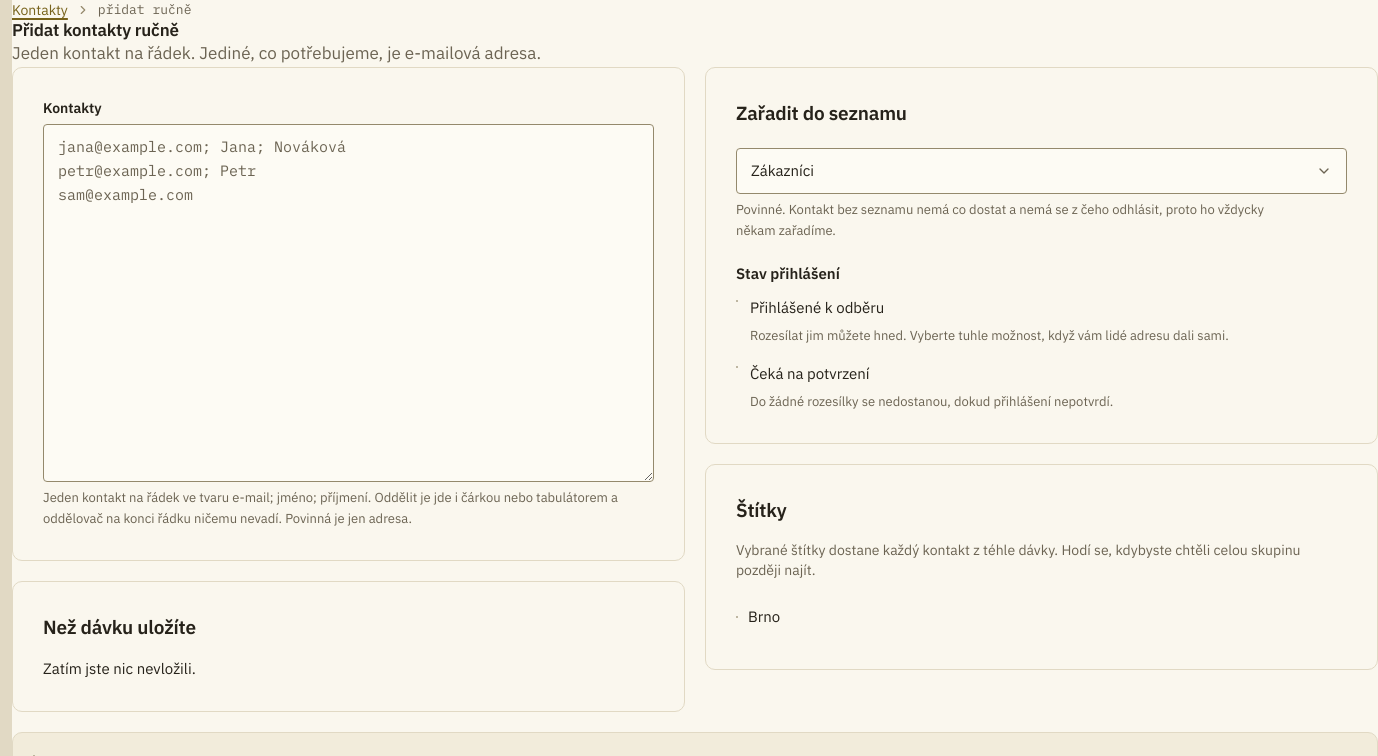
Test: obrazovka vložení kontaktů textem › řekne, co se s kontakty stane podle zvoleného stavu přihlášení
Click the 2nd radio button named "čeká na potvrzení". click: (737, 367)
box: [736,366,738,368]
(page scrolled)
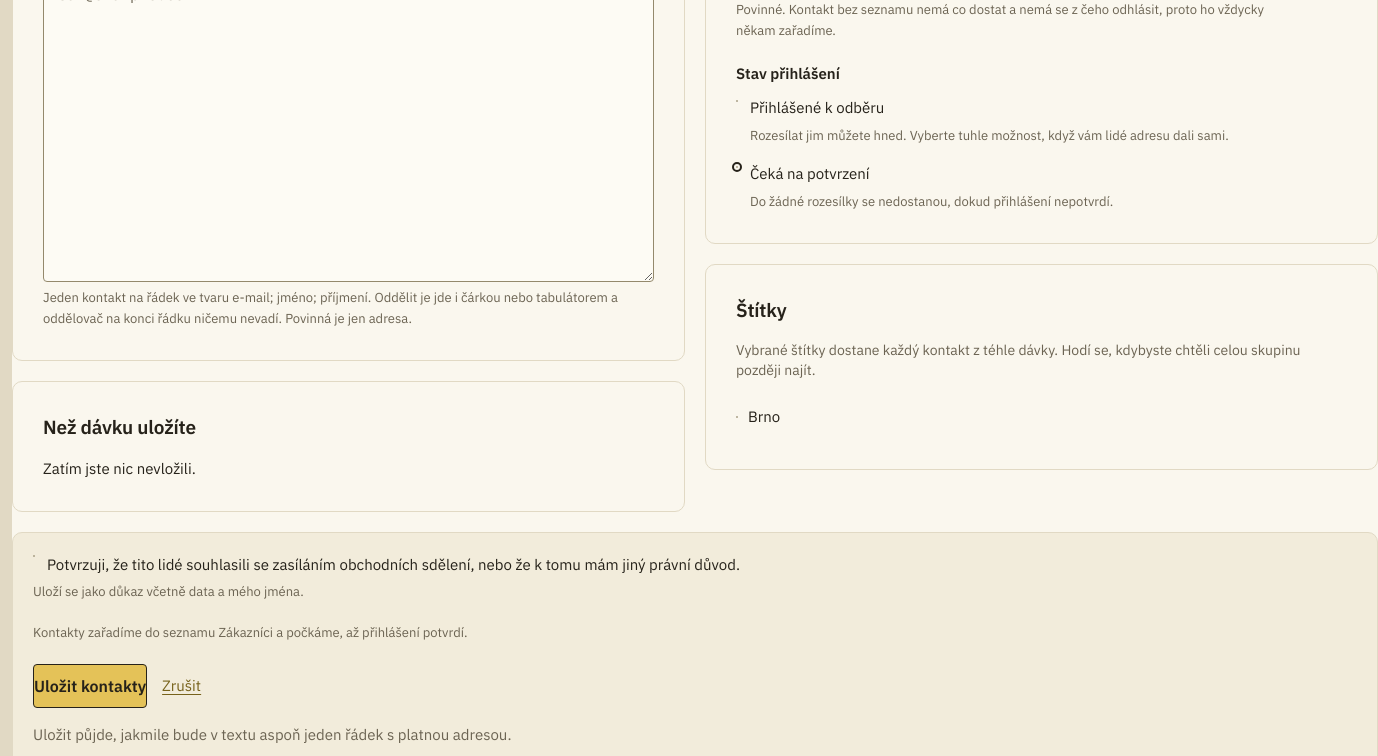
Expected: the text "počkáme, až přihlášení potvrdí" is shown, [33,624,468,641]
